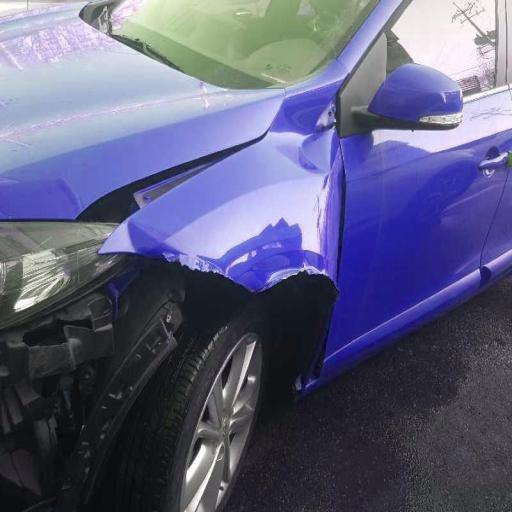broken: (68, 120, 375, 360)
